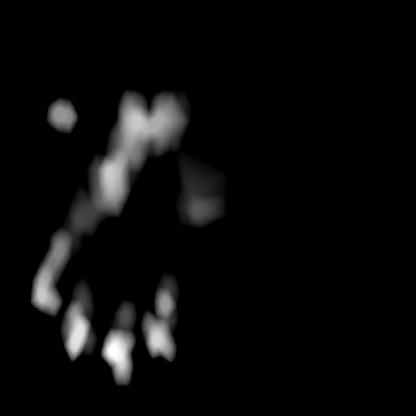fingers: (46, 94, 76, 130)
palm: (27, 228, 176, 376)
thumb: (86, 88, 212, 219)
